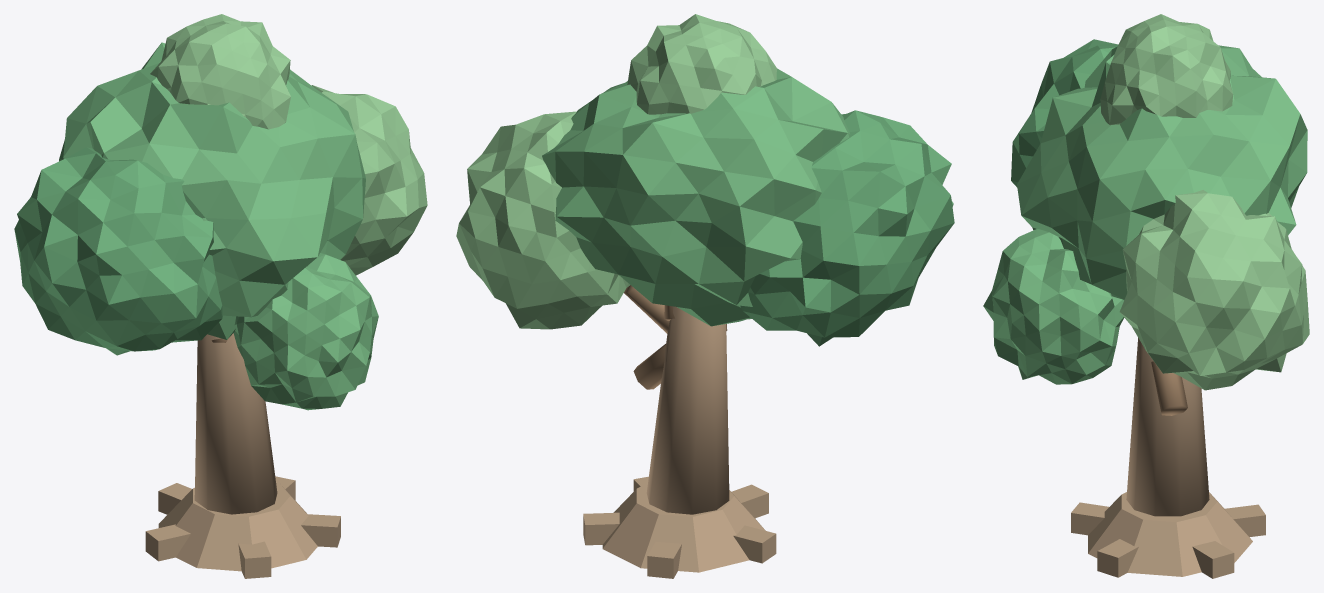
The model's file is Tree_A_03.glb.
3 renders of one model, left to right at view 1: azimuth 30°, elevation 25°; view 2: azimuth 150°, elevation 25°; view 3: azimuth 270°, elevation 25°, orthographic.
Visible parts, largest first — view 1: BW_TreeA_V03_Canopy_01, BW_TreeA_V03_Canopy_02, BW_TreeA_V03_Canopy_05, BW_TreeA_V03_Trunk, BW_TreeA_V03_Roots, BW_TreeA_V03_Canopy_04, BW_TreeA_V03_Canopy_03; view 2: BW_TreeA_V03_Canopy_01, BW_TreeA_V03_Canopy_02, BW_TreeA_V03_Canopy_03, BW_TreeA_V03_Trunk, BW_TreeA_V03_Roots, BW_TreeA_V03_Canopy_04, BW_TreeA_V03_Branches; view 3: BW_TreeA_V03_Canopy_01, BW_TreeA_V03_Canopy_03, BW_TreeA_V03_Canopy_05, BW_TreeA_V03_Roots, BW_TreeA_V03_Canopy_04, BW_TreeA_V03_Trunk, BW_TreeA_V03_Canopy_02, BW_TreeA_V03_Branches.
Boxes of the visible parts, x1=… form: BW_TreeA_V03_Canopy_01: x1=59, y1=42, x2=365, y2=339; BW_TreeA_V03_Canopy_02: x1=14, y1=147, x2=222, y2=355; BW_TreeA_V03_Canopy_05: x1=233, y1=253, x2=378, y2=410; BW_TreeA_V03_Trunk: x1=194, y1=333, x2=277, y2=514; BW_TreeA_V03_Roots: x1=145, y1=476, x2=340, y2=578; BW_TreeA_V03_Canopy_04: x1=150, y1=14, x2=290, y2=129; BW_TreeA_V03_Canopy_03: x1=311, y1=85, x2=427, y2=275; BW_TreeA_V03_Canopy_01: x1=542, y1=68, x2=849, y2=326; BW_TreeA_V03_Canopy_02: x1=740, y1=110, x2=954, y2=346; BW_TreeA_V03_Canopy_03: x1=456, y1=111, x2=629, y2=329; BW_TreeA_V03_Trunk: x1=646, y1=306, x2=729, y2=514; BW_TreeA_V03_Roots: x1=583, y1=476, x2=776, y2=578; BW_TreeA_V03_Canopy_04: x1=627, y1=14, x2=776, y2=114; BW_TreeA_V03_Branches: x1=624, y1=285, x2=727, y2=389; BW_TreeA_V03_Canopy_01: x1=1017, y1=45, x2=1307, y2=299; BW_TreeA_V03_Canopy_03: x1=1119, y1=190, x2=1309, y2=390; BW_TreeA_V03_Canopy_05: x1=983, y1=229, x2=1124, y2=384; BW_TreeA_V03_Roots: x1=1071, y1=492, x2=1265, y2=578; BW_TreeA_V03_Canopy_04: x1=1100, y1=14, x2=1233, y2=125; BW_TreeA_V03_Trunk: x1=1126, y1=337, x2=1209, y2=516; BW_TreeA_V03_Canopy_02: x1=1011, y1=39, x2=1118, y2=187; BW_TreeA_V03_Branches: x1=1151, y1=361, x2=1187, y2=415.
Bounding box in the file's own units: 4.35 × 5.1 × 2.97.
